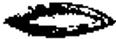Mouth: (3, 3, 115, 38)
